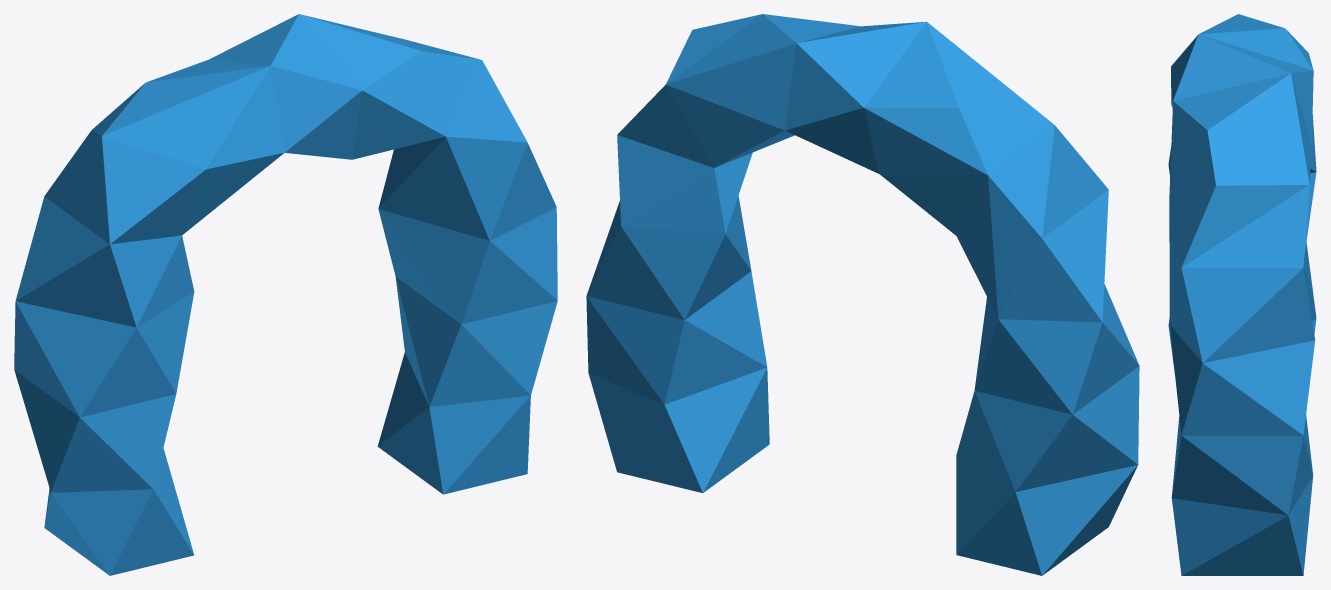
The model's file is crystal_doorway.fbx.
The picture shows the model from 3 angles, left to right: view 1: azimuth 30°, elevation 25°; view 2: azimuth 150°, elevation 25°; view 3: azimuth 270°, elevation 25°; orthographic projection. The views are drawn at different scales.
Visible parts, largest first — view 1: crystal_doorway; view 2: crystal_doorway; view 3: crystal_doorway.
Part boxes in pixels (<box>): crystal_doorway: <box>14,14,557,575</box>; crystal_doorway: <box>586,14,1139,575</box>; crystal_doorway: <box>1168,14,1316,575</box>.
Size of the model in its own units: 128 by 112 by 35.06.
